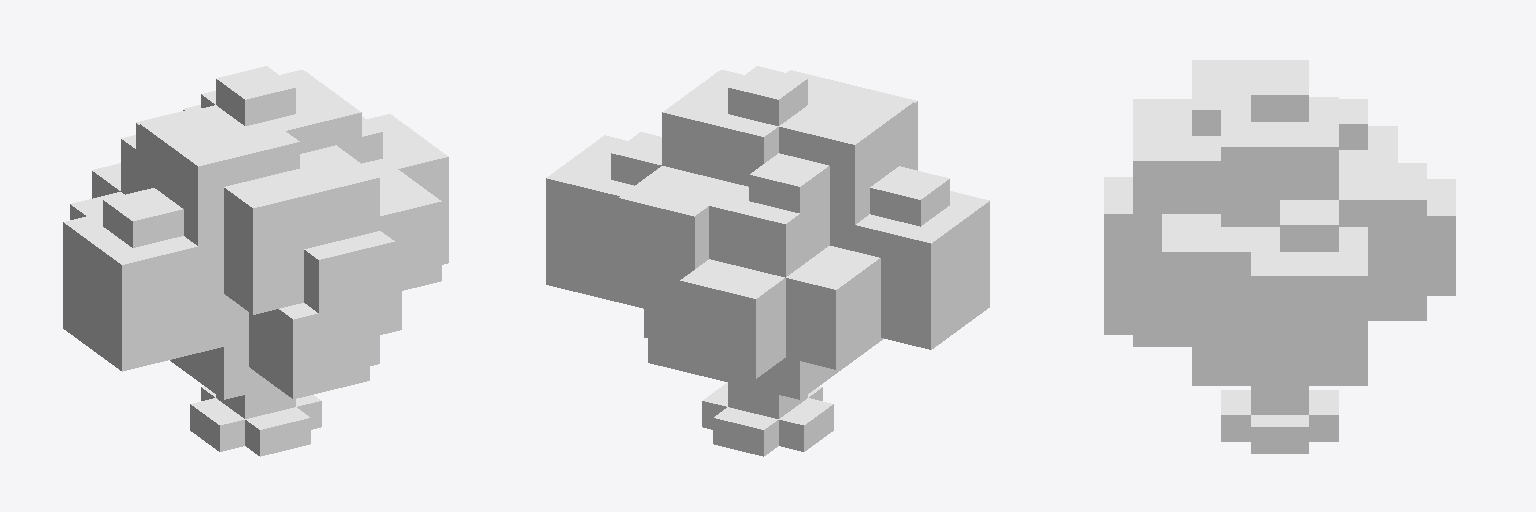
File: blue_bush2.obj
The picture shows the model from 3 angles: view 1: azimuth 30°, elevation 25°; view 2: azimuth 150°, elevation 25°; view 3: azimuth 270°, elevation 25°; orthographic projection.
Visible parts, largest first — view 1: object 1; view 2: object 1; view 3: object 1.
Boxes of the visible parts, x1,y1,x2,y2 form: object 1: [63, 66, 448, 456]; object 1: [546, 66, 989, 456]; object 1: [1104, 60, 1455, 453].
Size of the model in its own units: 1.4 by 1.3 by 1.2.